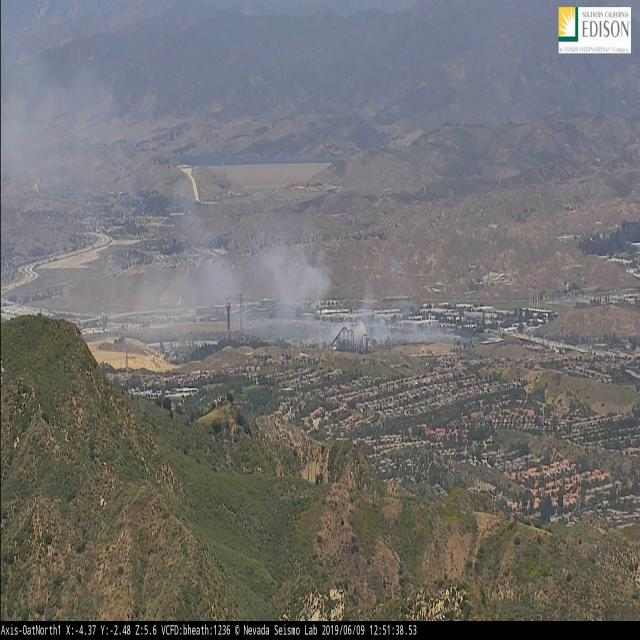smoke: (0, 59, 476, 364)
